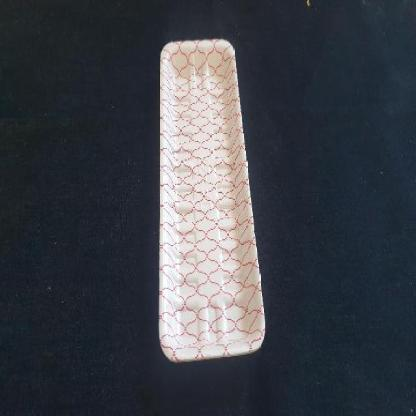Glass Cup: (159, 38, 265, 362), (159, 39, 265, 361)
